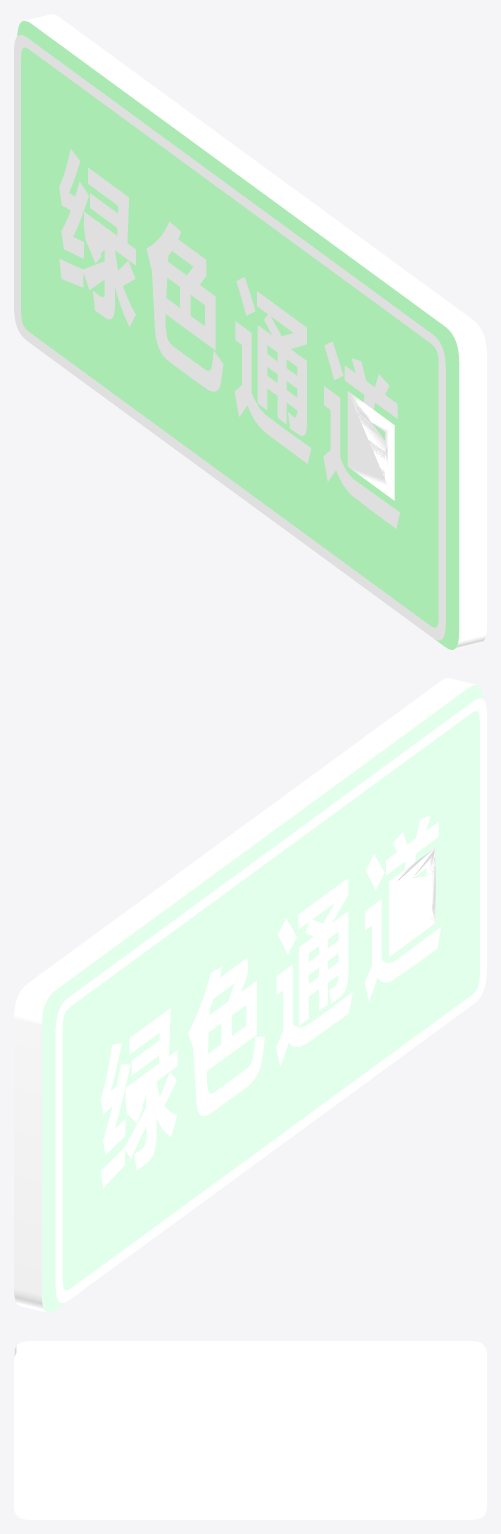
The model's file is Passable_Lane.glb.
The picture shows the model from 3 angles, top to bottom: view 1: azimuth 30°, elevation 25°; view 2: azimuth 150°, elevation 25°; view 3: azimuth 270°, elevation 25°; orthographic projection. The views are drawn at different scales.
Parts seen in each view (by area): view 1: Passable_Lane; view 2: Passable_Lane; view 3: Passable_Lane.
Boxes of the visible parts, x1,y1,x2,y2 form: Passable_Lane: (14,14,486,649); Passable_Lane: (14,678,486,1312); Passable_Lane: (14,1341,486,1519).
Bounding box in the file's own units: 0.0262 × 0.22 × 0.55.
